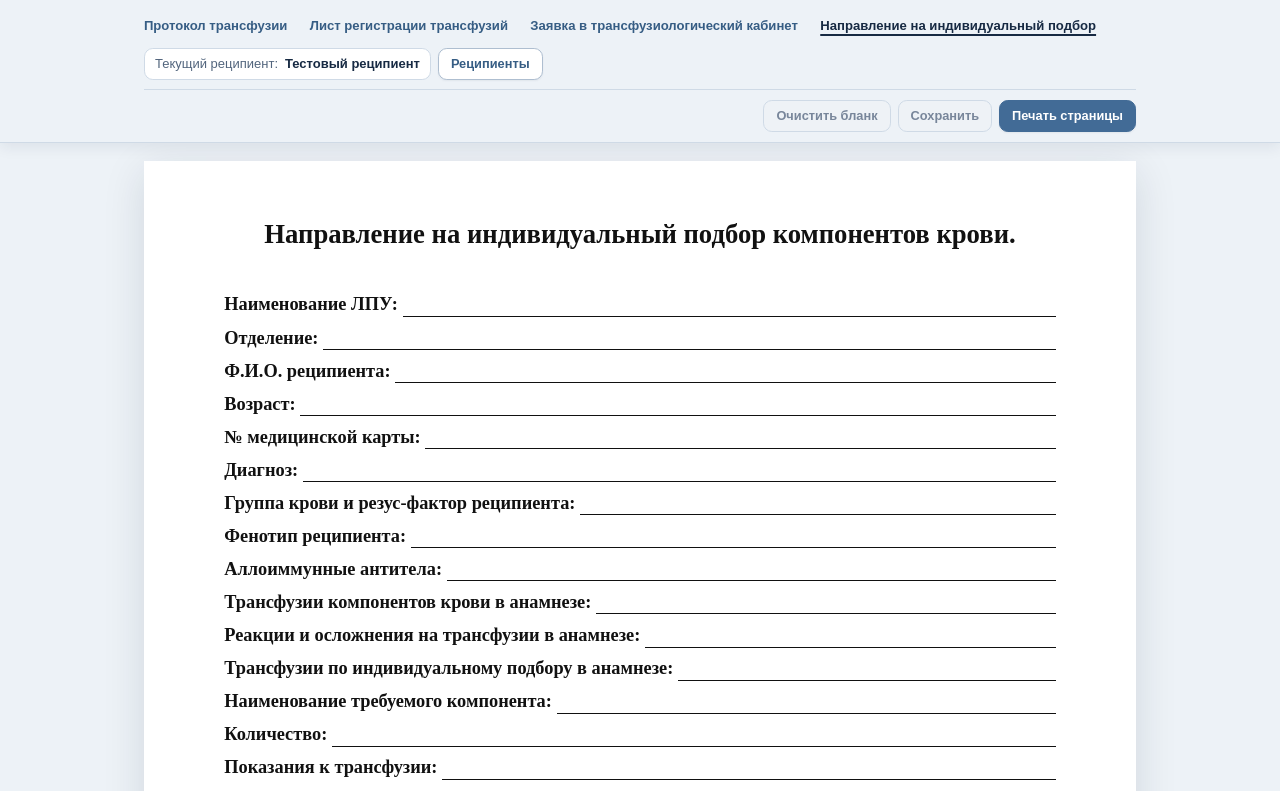
Test: opens the separate history dialog from the transfusion history row
This screenshot has width=1280, height=791.
Click the text "Трансфузии компонентов крови в анамнезе:". click: (408, 598)
box: [224, 581, 591, 614]
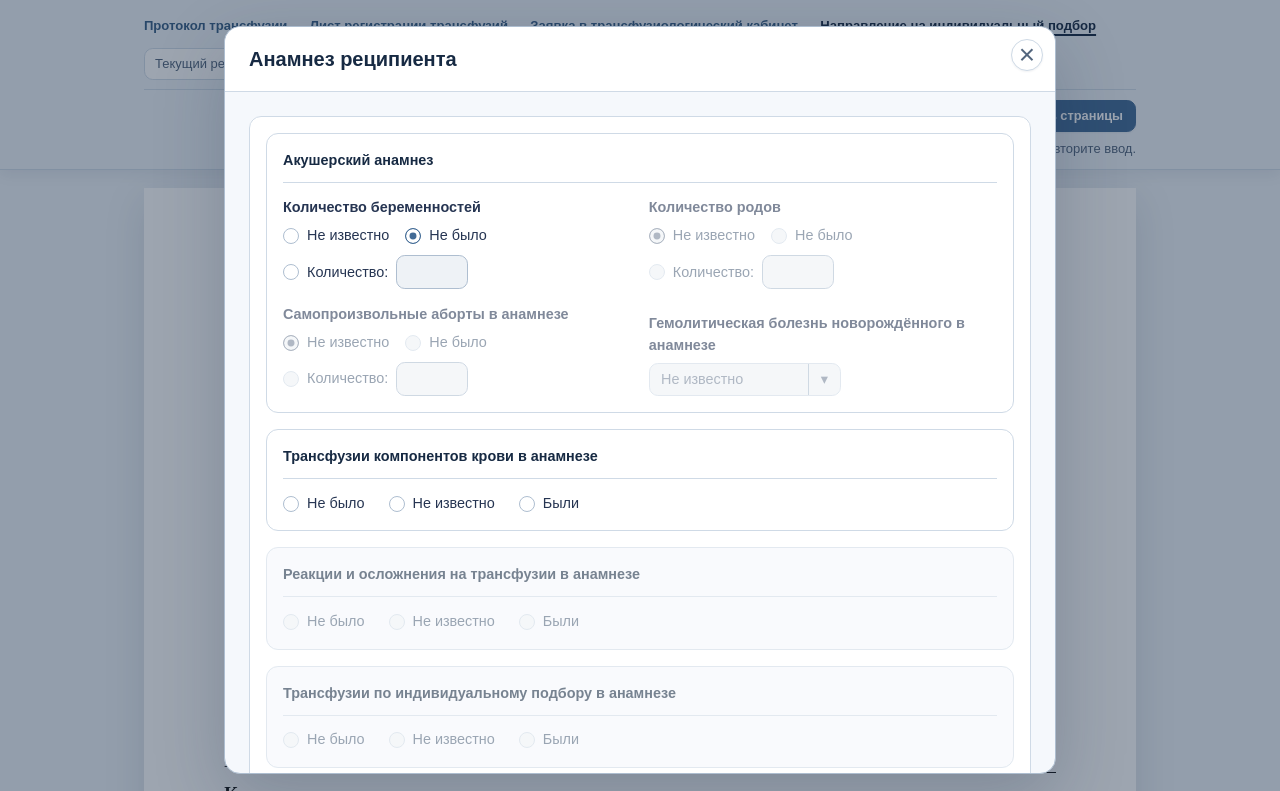
Check: the element "Трансфузии компонентов крови в анамнезе" is shown, box [266, 429, 1014, 531]
Check: the text "Акушерский анамнез" is shown, box [283, 150, 997, 183]
